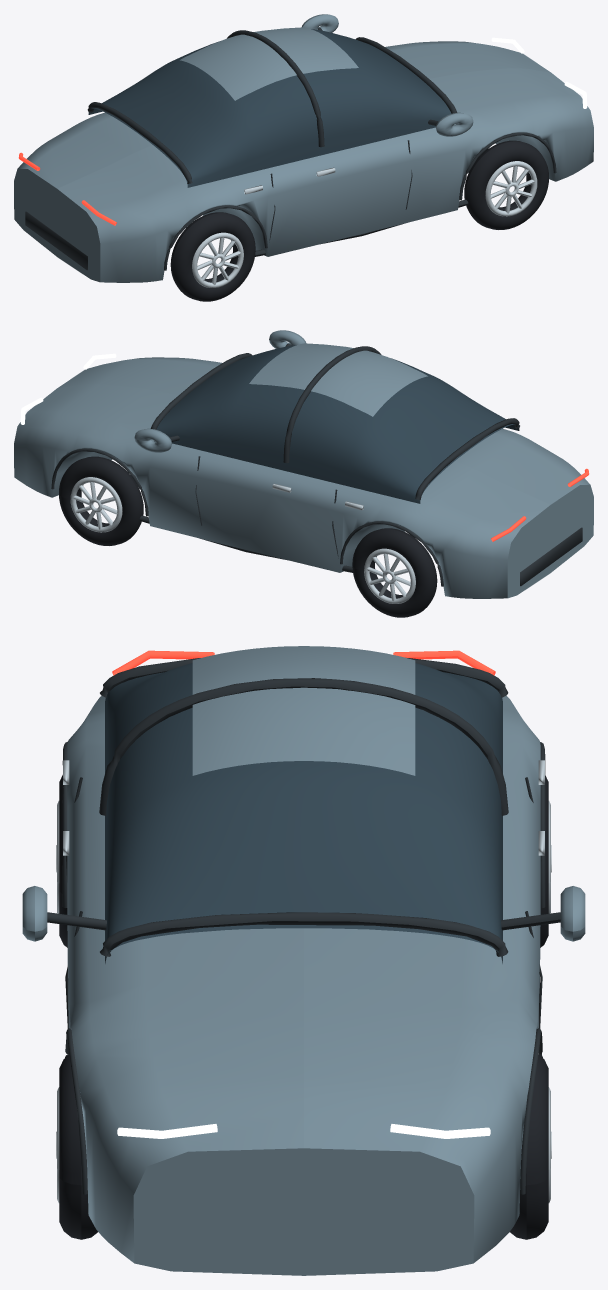
The model's file is car_crossover.glb.
3 renders of one model, top to bottom at view 1: azimuth 30°, elevation 25°; view 2: azimuth 150°, elevation 25°; view 3: azimuth 270°, elevation 25°, orthographic. The views are drawn at different scales.
Parts seen in each view (by area): view 1: body_paint_batch_0, smoked_glass_batch_0, carbon_trim_batch_0, rubber_batch_4, rubber_batch_2, brushed_alloy_batch_2, brushed_alloy_batch_4; view 2: body_paint_batch_0, smoked_glass_batch_0, carbon_trim_batch_0, rubber_batch_3, rubber_batch_1, brushed_alloy_batch_1, brushed_alloy_batch_3; view 3: body_paint_batch_0, smoked_glass_batch_0, carbon_trim_batch_0, rubber_batch_2, rubber_batch_1, front_led_batch_0, rear_led_batch_0.
Part boxes in pixels (<box>): body_paint_batch_0: <box>14,14,593,282</box>; smoked_glass_batch_0: <box>88,29,451,187</box>; carbon_trim_batch_0: <box>25,27,556,270</box>; rubber_batch_4: <box>170,212,255,301</box>; rubber_batch_2: <box>464,140,548,229</box>; brushed_alloy_batch_2: <box>485,161,537,216</box>; brushed_alloy_batch_4: <box>192,232,243,287</box>; body_paint_batch_0: <box>14,330,593,598</box>; smoked_glass_batch_0: <box>156,345,519,503</box>; carbon_trim_batch_0: <box>51,343,582,586</box>; rubber_batch_3: <box>352,528,437,617</box>; rubber_batch_1: <box>59,456,143,545</box>; brushed_alloy_batch_1: <box>70,477,122,532</box>; brushed_alloy_batch_3: <box>364,548,415,603</box>; body_paint_batch_0: <box>22,646,585,1275</box>; smoked_glass_batch_0: <box>105,663,502,963</box>; carbon_trim_batch_0: <box>47,658,560,1194</box>; rubber_batch_2: <box>59,1055,97,1239</box>; rubber_batch_1: <box>510,1055,548,1239</box>; front_led_batch_0: <box>117,1124,490,1138</box>; rear_led_batch_0: <box>112,650,495,675</box>.
Bounding box in the file's own units: 4.59 × 1.67 × 2.26.
